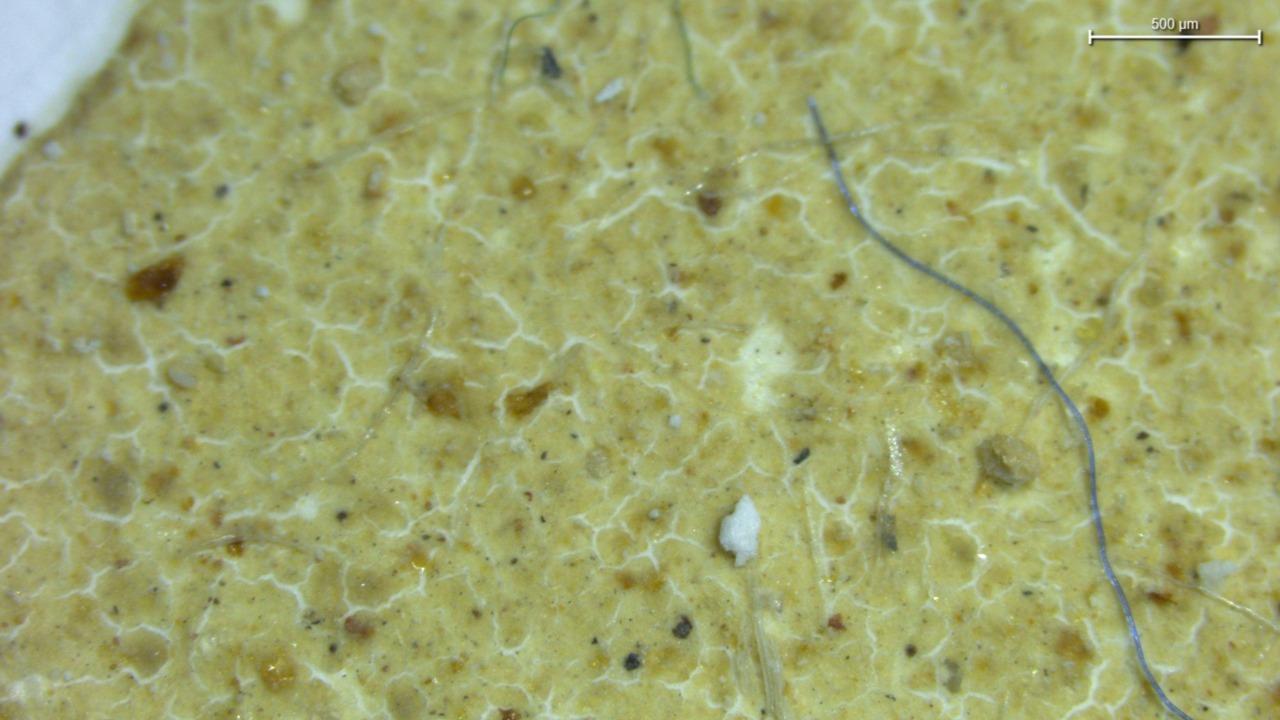microplastic_fragment: (976, 427, 1043, 491), (722, 496, 761, 567)
